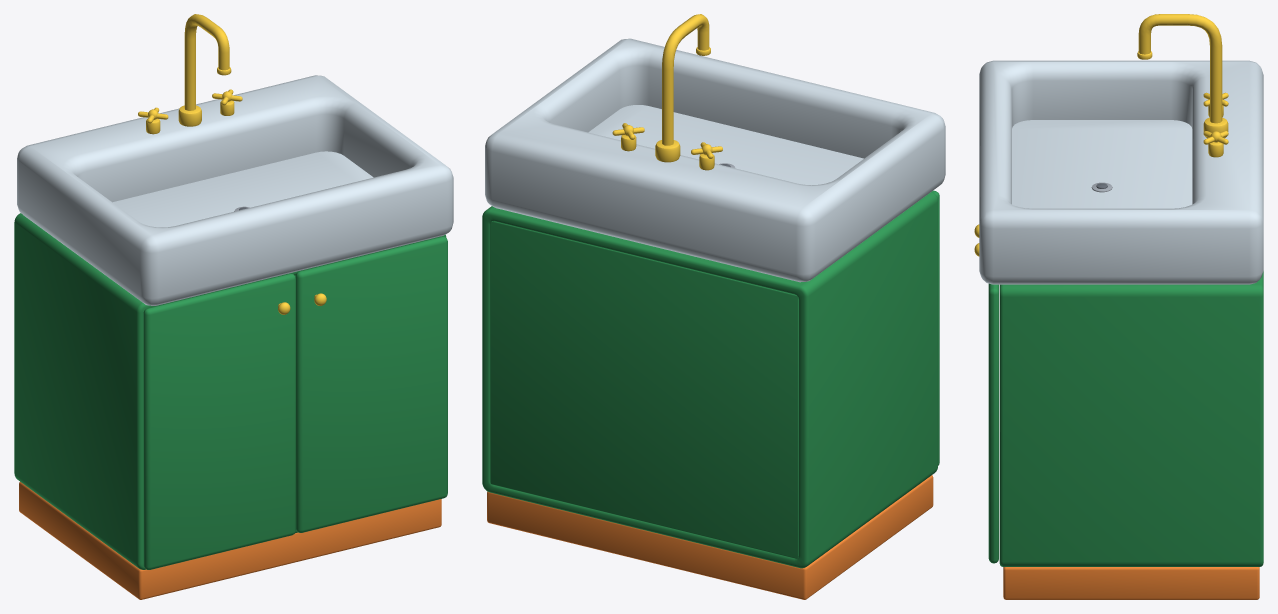
File: armario_cozinha_pia_verde.glb
3 views of the same model, side by side, from view 1: azimuth 30°, elevation 25°; view 2: azimuth 150°, elevation 25°; view 3: azimuth 270°, elevation 25° (orthographic). The views are drawn at different scales.
Visible parts, largest first — view 1: armario_cozinha_pia_verde, porta_1, porta_2; view 2: armario_cozinha_pia_verde; view 3: armario_cozinha_pia_verde, porta_2.
Part boxes in pixels (<box>): armario_cozinha_pia_verde: <box>14,14,453,599</box>; porta_1: <box>143,273,295,569</box>; porta_2: <box>295,236,447,532</box>; armario_cozinha_pia_verde: <box>482,14,945,599</box>; armario_cozinha_pia_verde: <box>979,14,1263,599</box>; porta_2: <box>974,243,998,563</box>.
Bounding box in the file's own units: 0.798 × 1.18 × 0.609.
Materials: 1 (1 with a texture image).
